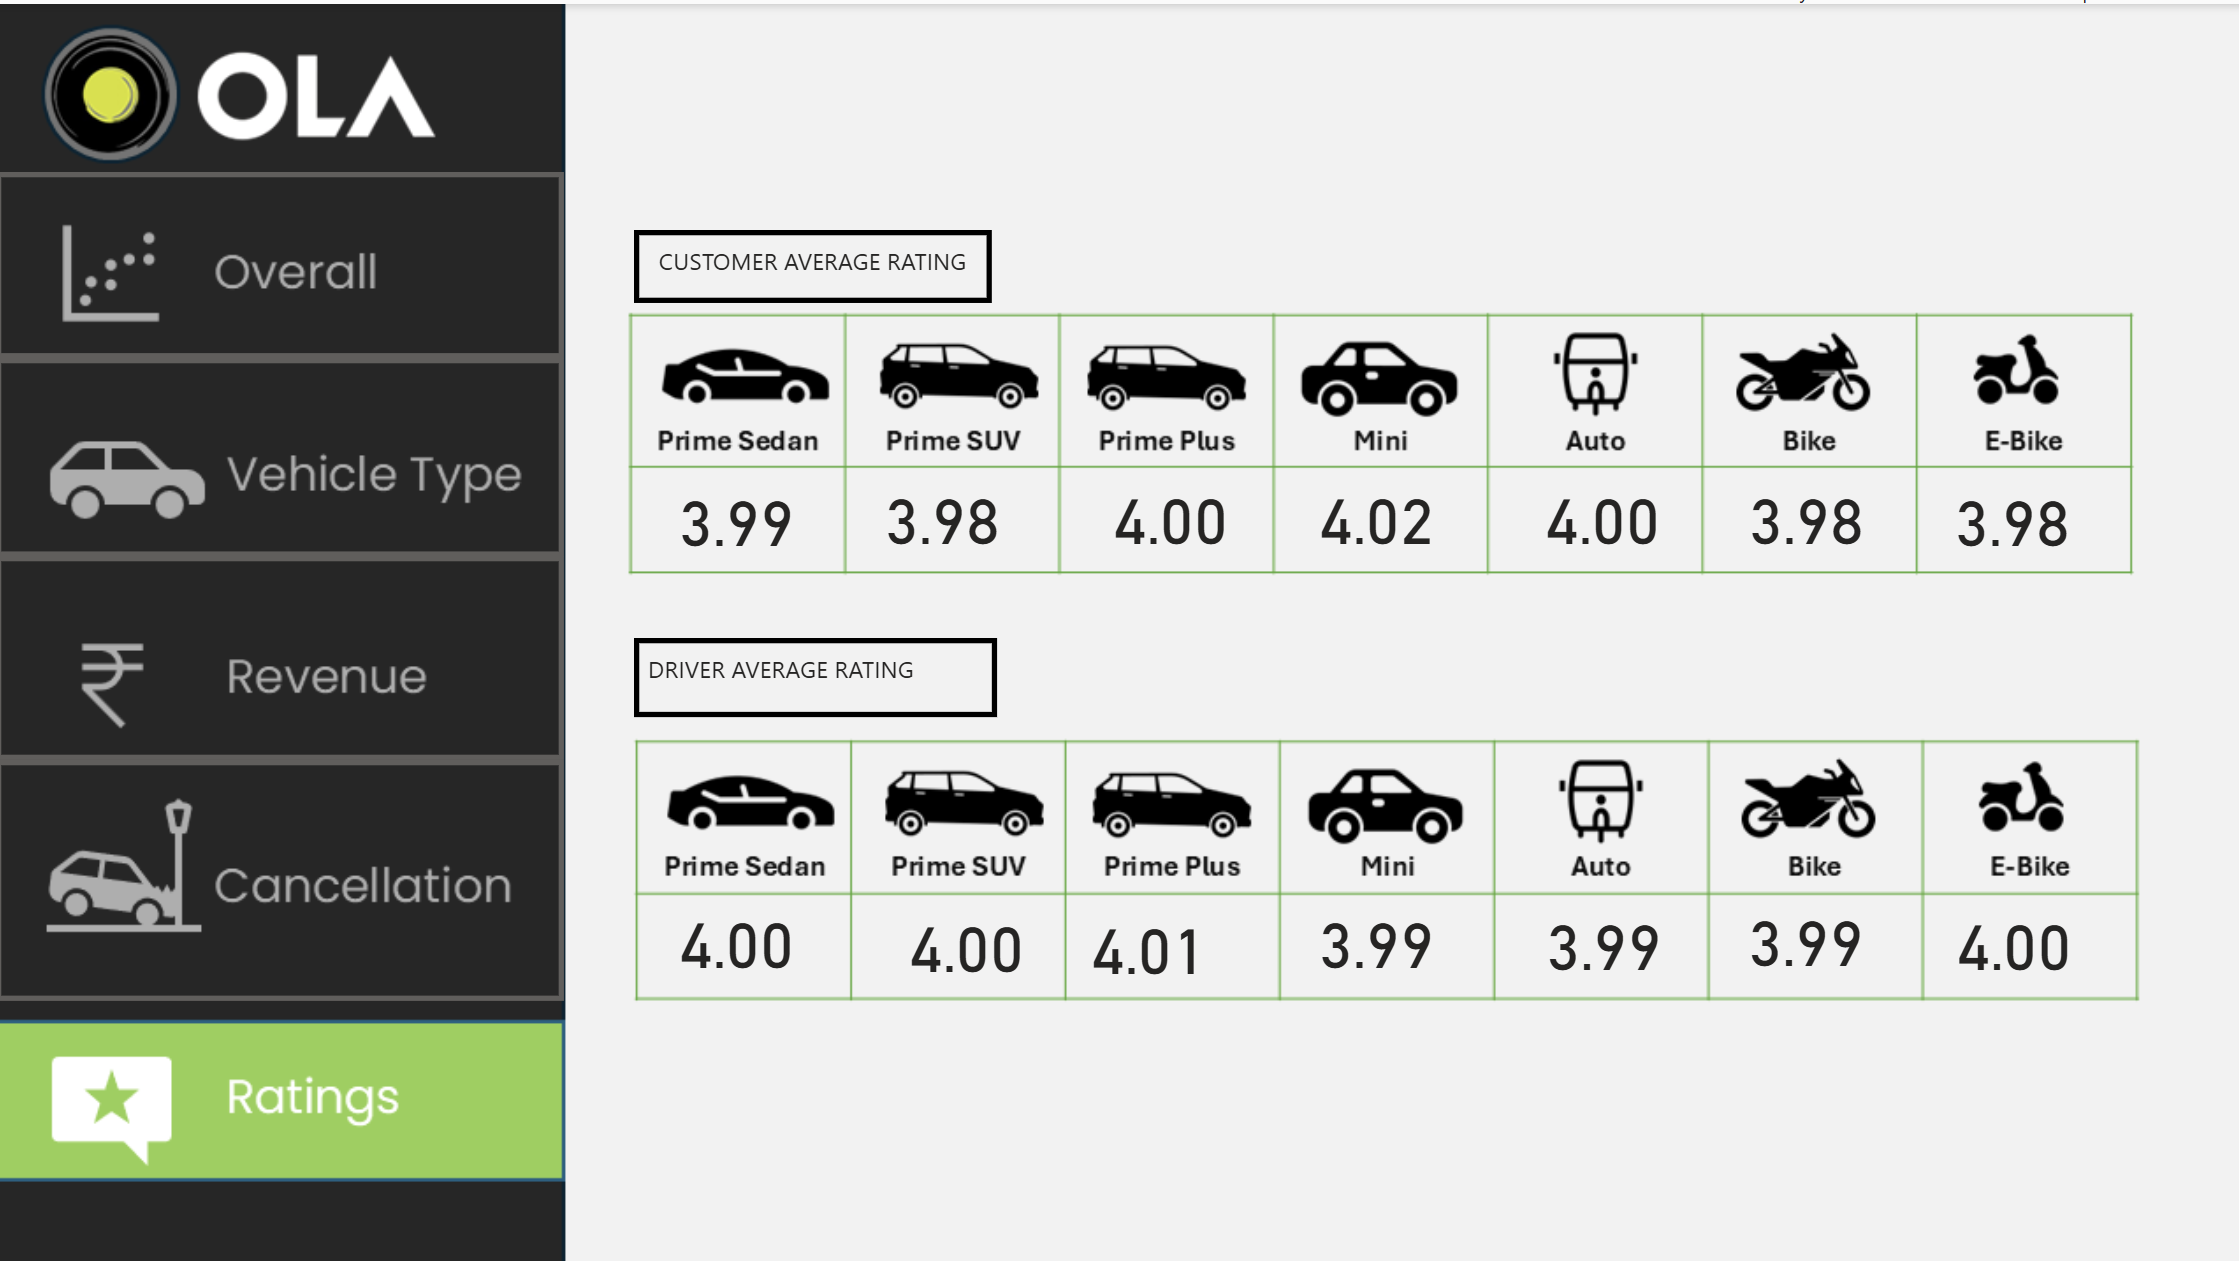

The dashboard page shown, as its layout file describes it:
{"tool":"powerbi","page":{"name":"Page 5","canvas":[1280,720],"ordinal":4},"visuals":[{"type":"actionButton","box":[0,201,323,113],"z":0},{"type":"actionButton","box":[0,314,323,116],"z":1000},{"type":"actionButton","box":[0,430,323,137],"z":2000},{"type":"actionButton","box":[0,95,323,106],"z":3000},{"type":"card","fields":{"Values":["Avg(OlaData.Customer_Rating)"]},"box":[363.3,270,116.7,45],"z":3001},{"type":"card","fields":{"Values":["Avg(OlaData.Customer_Rating)"]},"box":[480,268.3,116.7,45],"z":3002},{"type":"card","fields":{"Values":["Avg(OlaData.Customer_Rating)"]},"box":[610,268.3,116.7,45],"z":3003},{"type":"card","fields":{"Values":["Avg(OlaData.Customer_Rating)"]},"box":[726.7,268.3,116.7,45],"z":3004},{"type":"card","fields":{"Values":["Avg(OlaData.Customer_Rating)"]},"box":[855,268.3,116.7,45],"z":3005},{"type":"card","fields":{"Values":["Avg(OlaData.Customer_Rating)"]},"box":[971.7,268.3,116.7,45],"z":3006},{"type":"card","fields":{"Values":["Avg(OlaData.Customer_Rating)"]},"box":[1088.3,270,116.7,45],"z":3007},{"type":"textbox","box":[363.3,128.3,203.3,41.7],"z":3008},{"type":"card","fields":{"Values":["Avg(OlaData.Driver_Ratings)"]},"box":[363.3,510,116.7,45],"z":3009},{"type":"card","fields":{"Values":["Avg(OlaData.Driver_Ratings)"]},"box":[493.3,511.7,116.7,45],"z":3010},{"type":"card","fields":{"Values":["Avg(OlaData.Driver_Ratings)"]},"box":[596.7,513.3,116.7,45],"z":3011},{"type":"card","fields":{"Values":["Avg(OlaData.Driver_Ratings)"]},"box":[726.7,510,116.7,45],"z":3012},{"type":"card","fields":{"Values":["Avg(OlaData.Driver_Ratings)"]},"box":[855,511.7,118.3,43.3],"z":3013},{"type":"card","fields":{"Values":["Avg(OlaData.Driver_Ratings)"]},"box":[970,510,118.3,43.3],"z":3014},{"type":"card","fields":{"Values":["Avg(OlaData.Driver_Ratings)"]},"box":[1088.3,511.7,118.3,43.3],"z":3015},{"type":"textbox","box":[363.3,360,206.7,45],"z":3016}]}

Visuals, with their boxes on the page's 1280x720 design canvas (x1, y1, x2, y2). These are canvas units, not pixel positions in the 2239x1261 screenshot, which may show the page scaled, cropped or inside an application window:
actionButton: region(0, 201, 323, 314)
actionButton: region(0, 314, 323, 430)
actionButton: region(0, 430, 323, 567)
actionButton: region(0, 95, 323, 201)
card - Avg(OlaData.Customer_Rating): region(363, 270, 480, 315)
card - Avg(OlaData.Customer_Rating): region(480, 268, 597, 313)
card - Avg(OlaData.Customer_Rating): region(610, 268, 727, 313)
card - Avg(OlaData.Customer_Rating): region(727, 268, 843, 313)
card - Avg(OlaData.Customer_Rating): region(855, 268, 972, 313)
card - Avg(OlaData.Customer_Rating): region(972, 268, 1088, 313)
card - Avg(OlaData.Customer_Rating): region(1088, 270, 1205, 315)
textbox: region(363, 128, 567, 170)
card - Avg(OlaData.Driver_Ratings): region(363, 510, 480, 555)
card - Avg(OlaData.Driver_Ratings): region(493, 512, 610, 557)
card - Avg(OlaData.Driver_Ratings): region(597, 513, 713, 558)
card - Avg(OlaData.Driver_Ratings): region(727, 510, 843, 555)
card - Avg(OlaData.Driver_Ratings): region(855, 512, 973, 555)
card - Avg(OlaData.Driver_Ratings): region(970, 510, 1088, 553)
card - Avg(OlaData.Driver_Ratings): region(1088, 512, 1207, 555)
textbox: region(363, 360, 570, 405)
